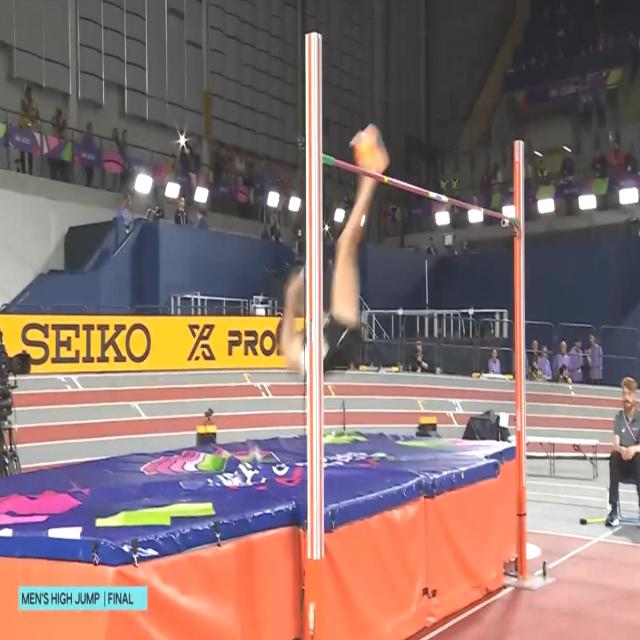land: (278, 124, 390, 373)
